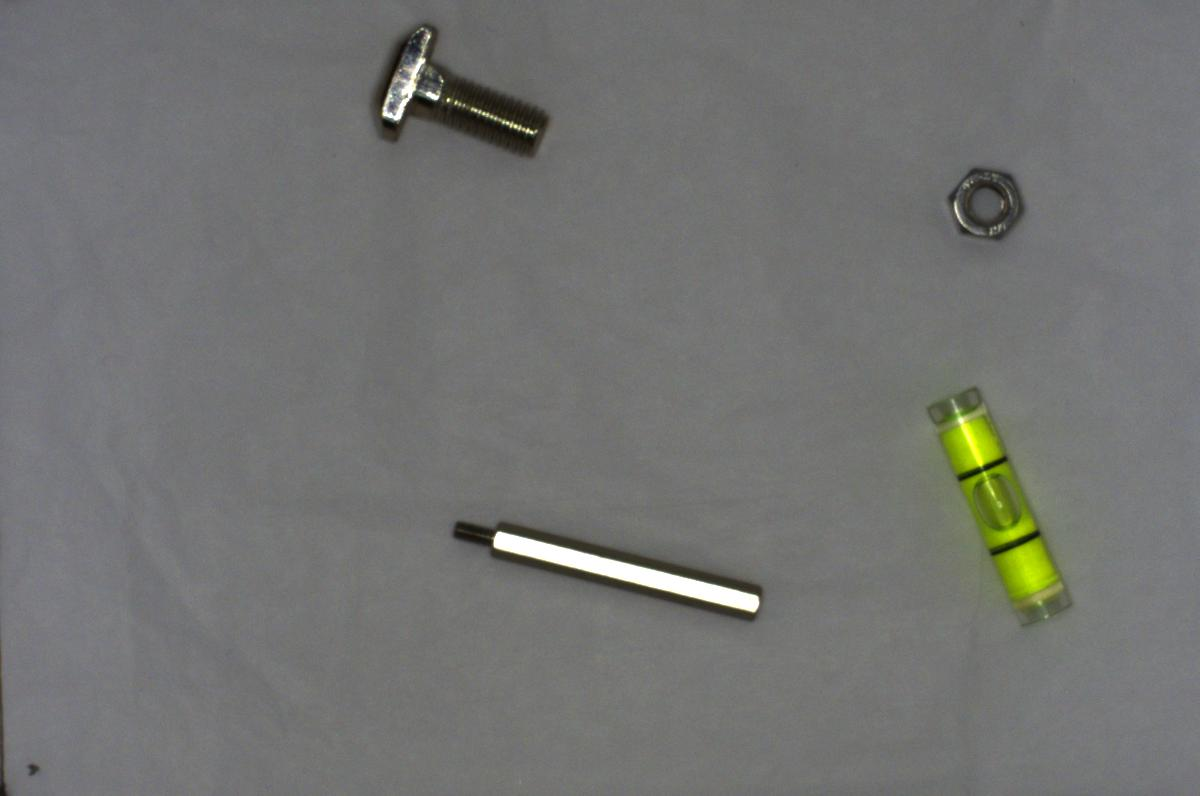Hexagon nut: (940, 160, 1031, 250)
Hexagonal steel column: (445, 512, 765, 626)
Horizontal bubble: (920, 374, 1080, 639)
T-shaped screw: (371, 18, 552, 159)
